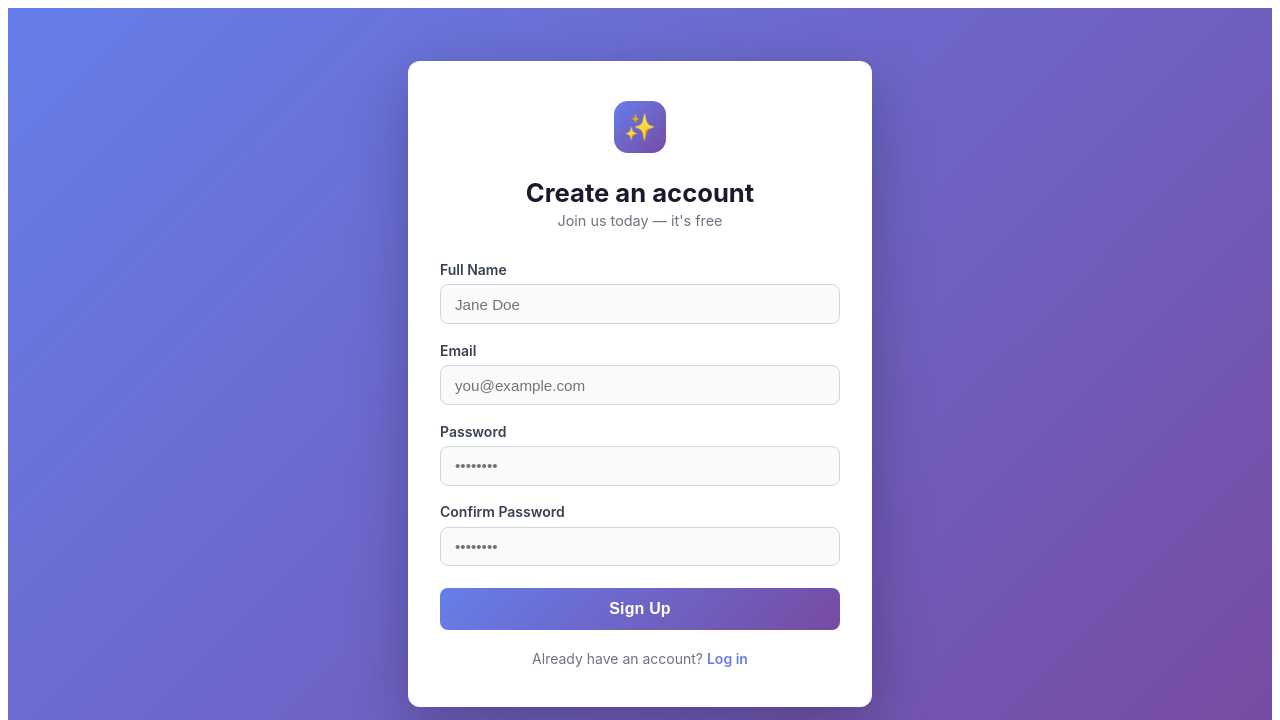
Test: SignUpPage › B — Validation › B1: shows "Full name is required" when name is empty
Click the button "Sign Up": (640,609) x1=440 y1=588 x2=840 y2=630
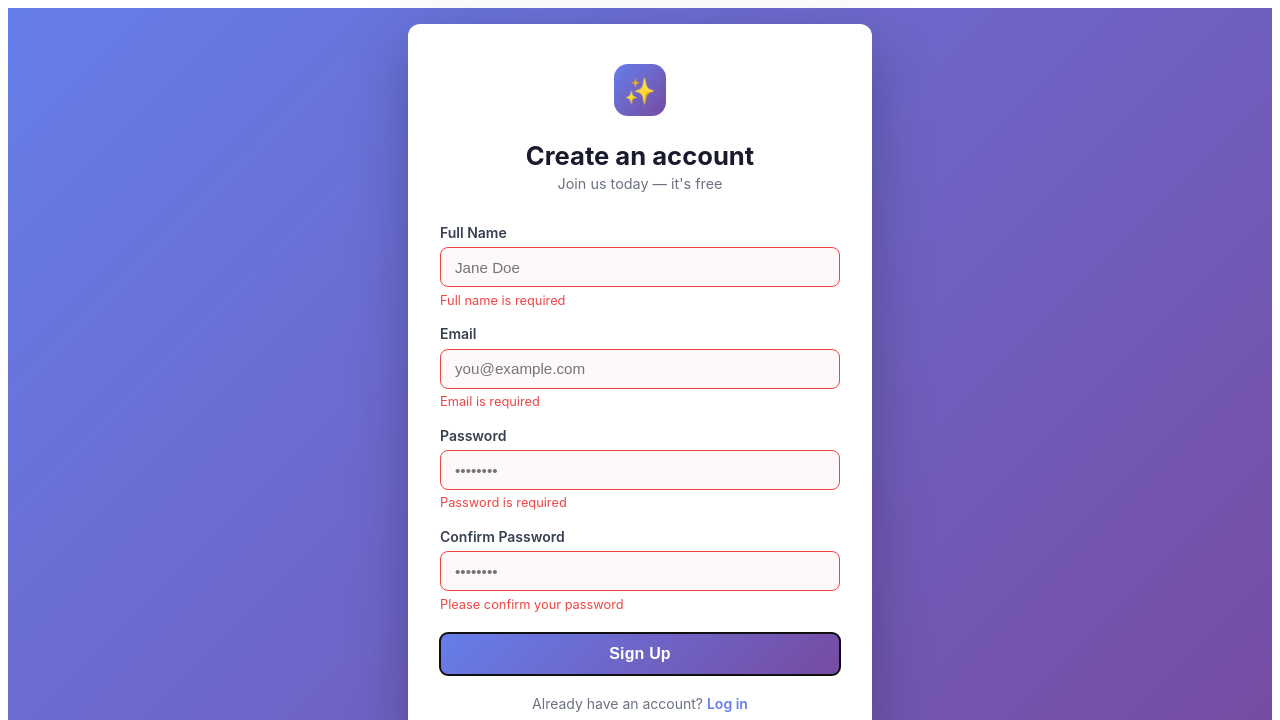
Check: the text "Full name is required" is shown, box x1=440 y1=293 x2=565 y2=308
